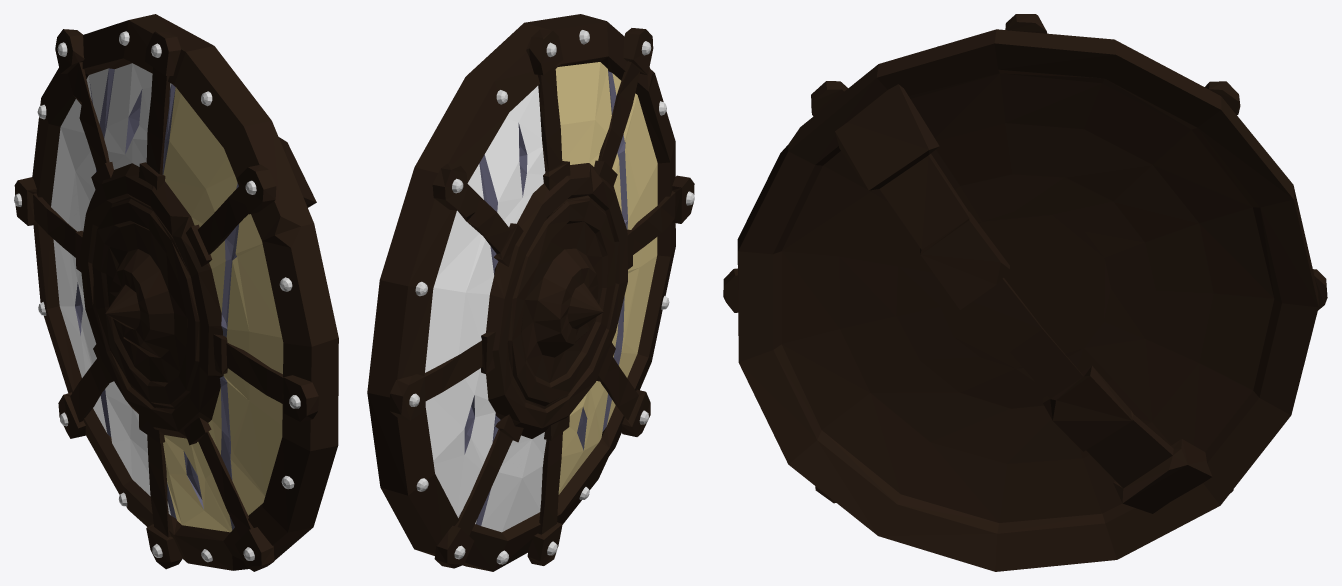
Rendered from SFFA_Shield_Wooden_006.fbx.
3 views of the same model, side by side, from view 1: azimuth 30°, elevation 25°; view 2: azimuth 150°, elevation 25°; view 3: azimuth 270°, elevation 25° (orthographic). The views are drawn at different scales.
Parts seen in each view (by area): view 1: SFFA_Shield_Wooden_006; view 2: SFFA_Shield_Wooden_006; view 3: SFFA_Shield_Wooden_006.
Boxes of the visible parts, box(x1,y1,x2,y2) form: SFFA_Shield_Wooden_006: box(14, 14, 338, 571); SFFA_Shield_Wooden_006: box(367, 14, 694, 571); SFFA_Shield_Wooden_006: box(723, 14, 1327, 571).
Size of the model in its own units: 24.63 by 72.8 by 72.76.
